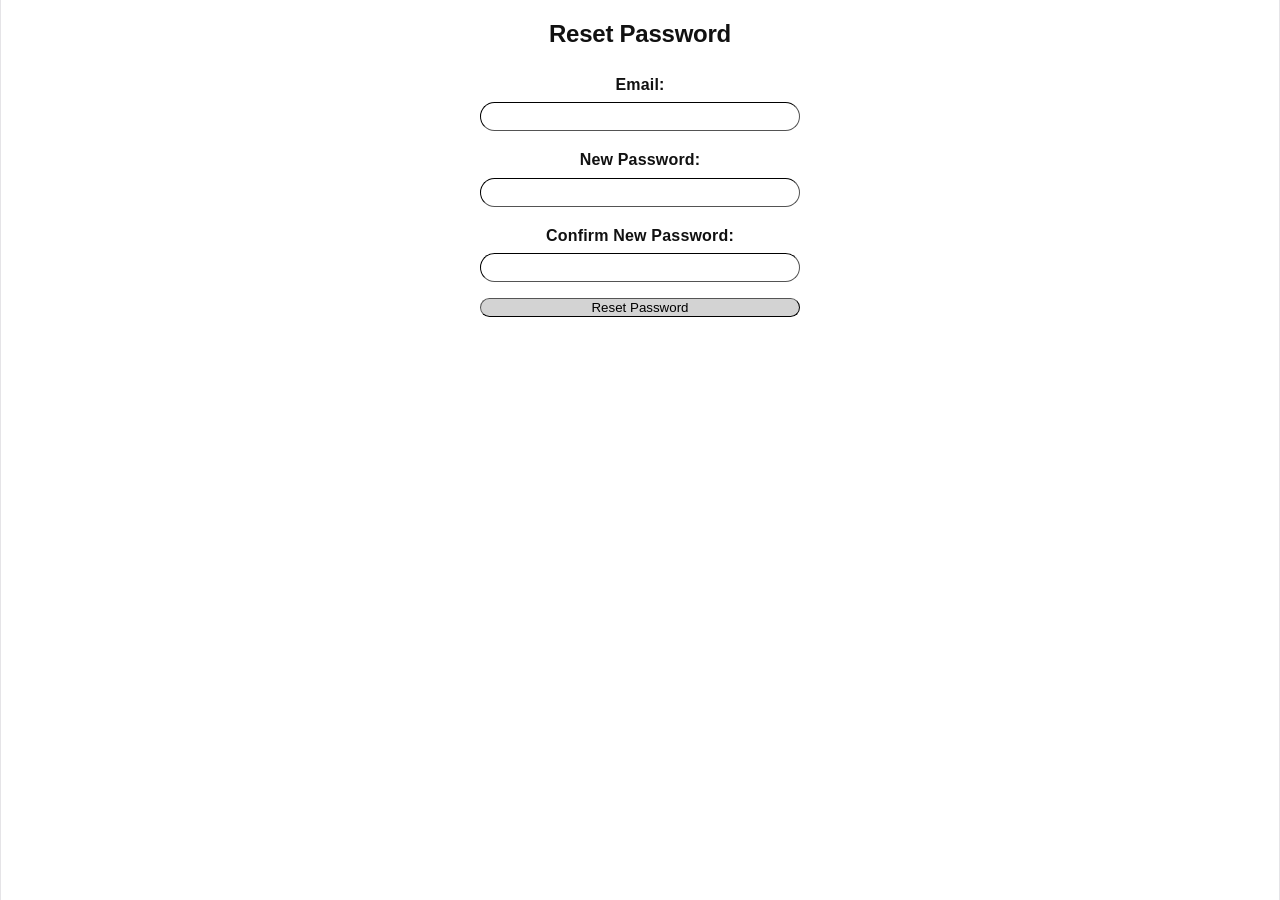
Test: shows error when passwords do not match
The image size is (1280, 900).
Type "test@test.com" into the field labelled "Email:" at x=640, y=117, box [480, 102, 800, 131]
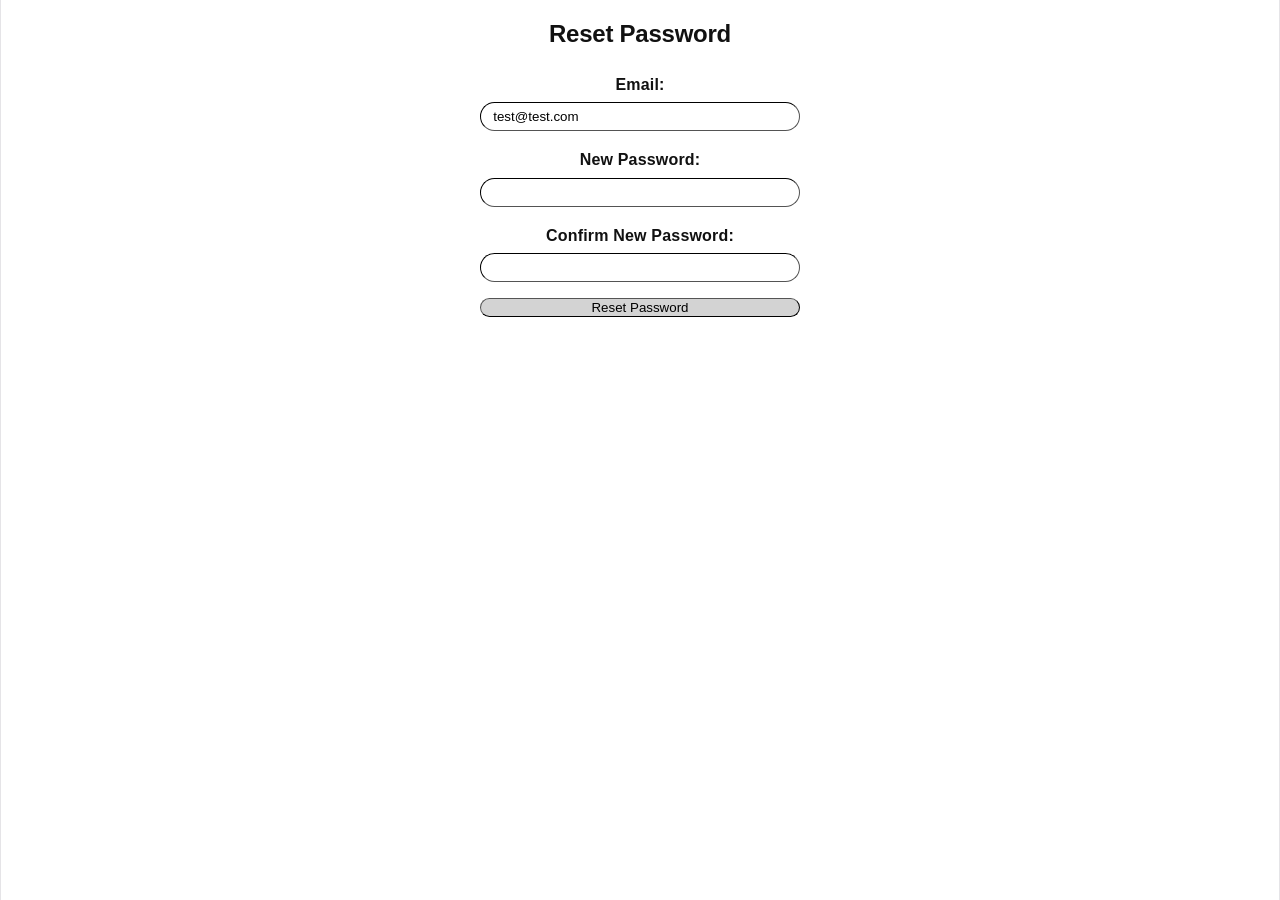
Type "password123" into the password field labelled "New Password:" at x=640, y=192, box [480, 178, 800, 206]
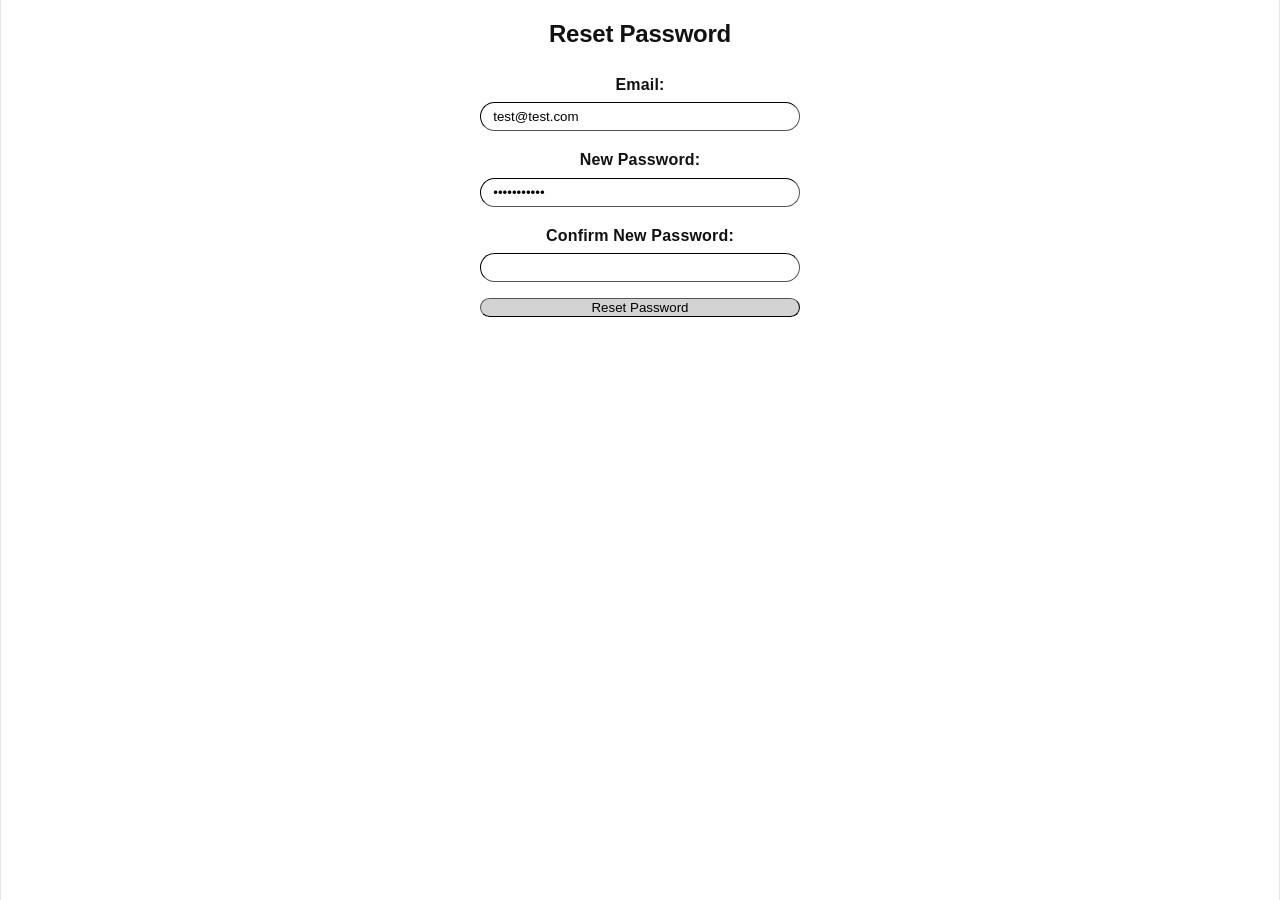
Type "different123" into the password field labelled "Confirm New Password:" at x=640, y=267, box [480, 253, 800, 282]
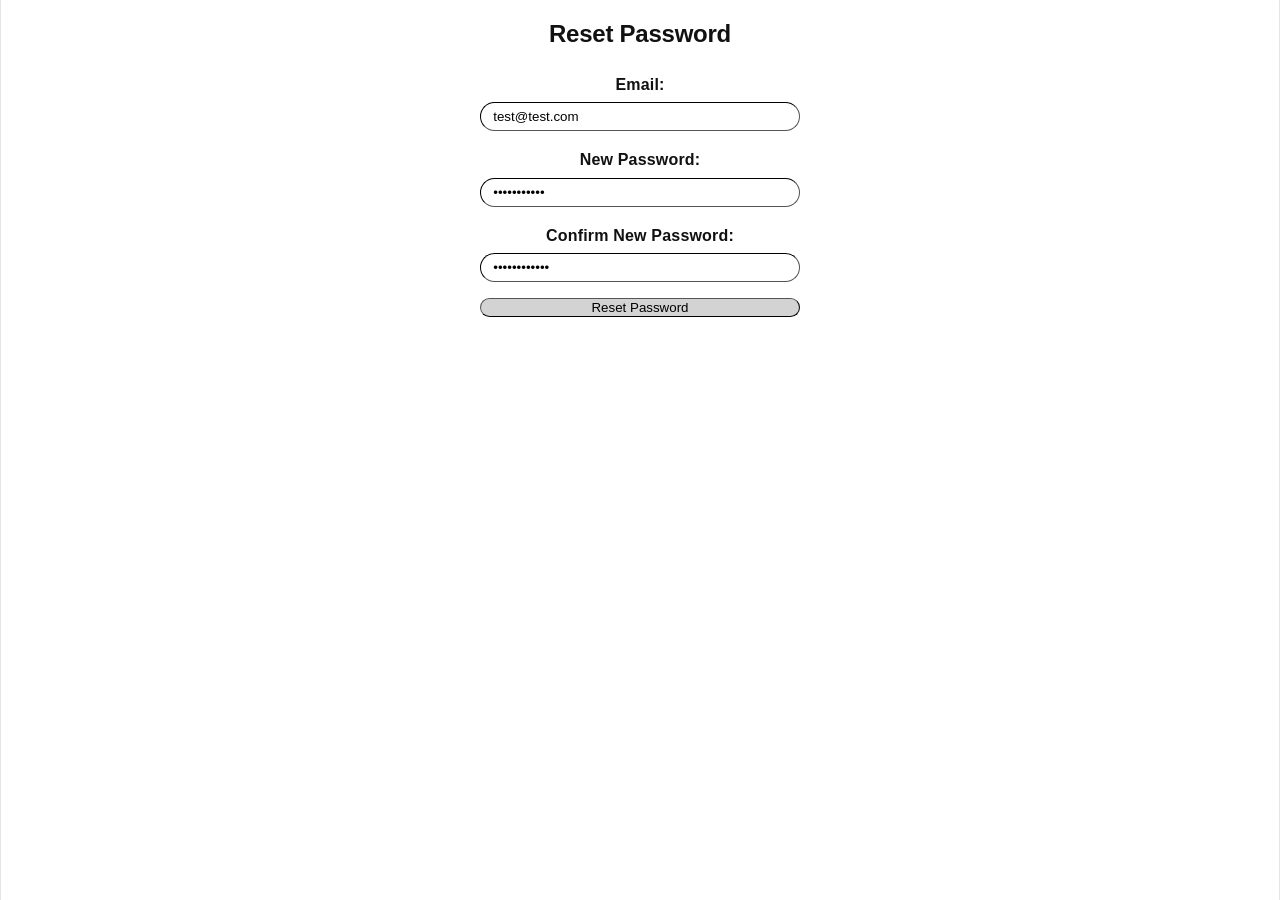
Click the button "Reset Password" at x=640, y=307, box [480, 298, 800, 317]
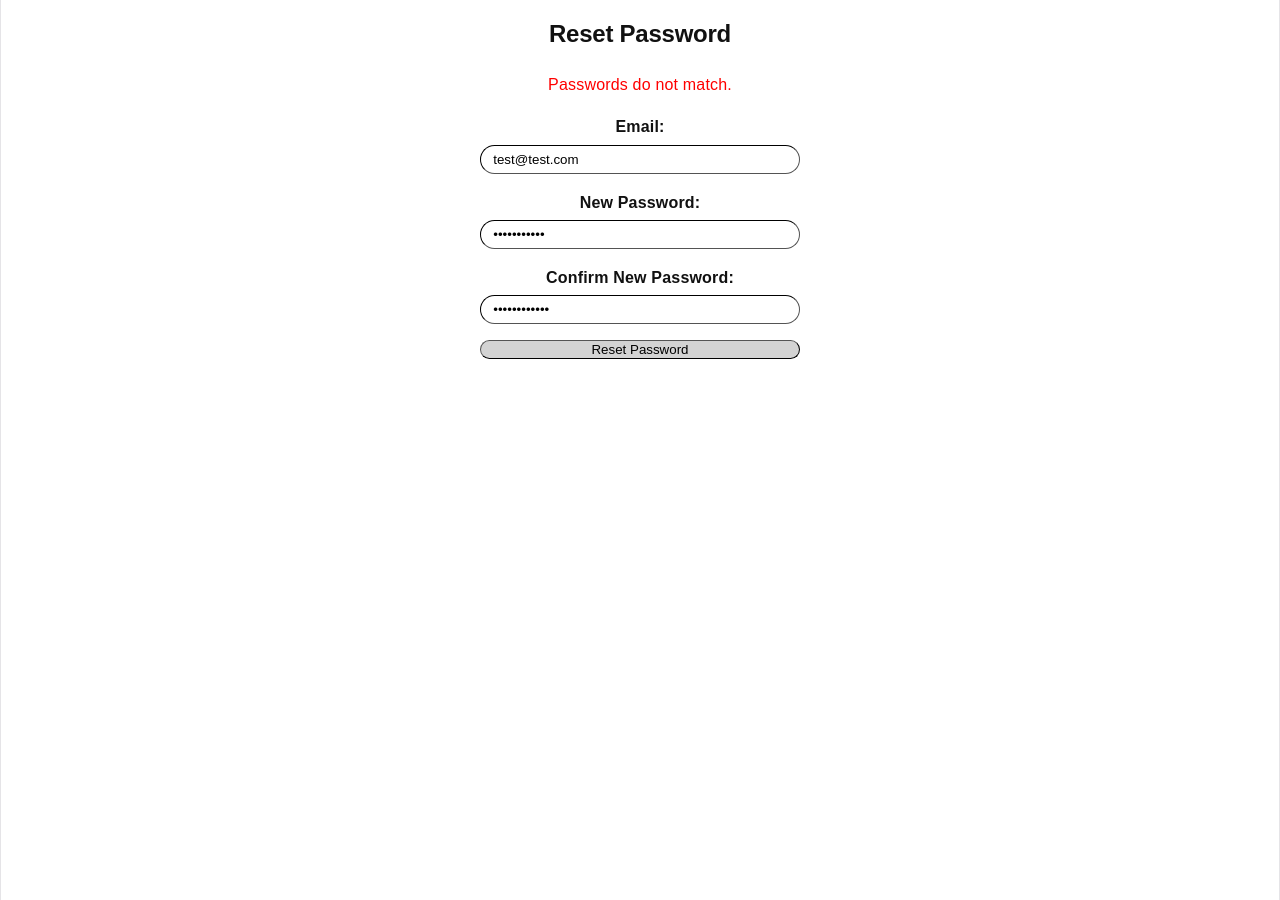
Check: the text "Passwords do not match." is shown, box [548, 76, 732, 93]
